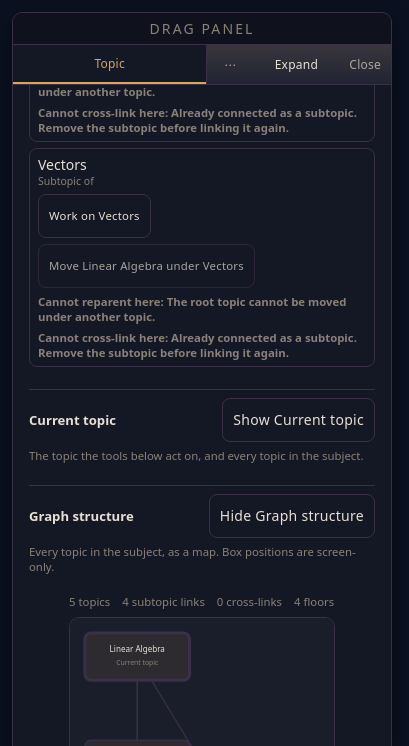
Test: archetype prominence › leads with existing connections for the Archivist, and keeps every tool reachable
(page scrolled)
Step 1. Click the button "Show Current topic" → (299, 420), box top-left (222, 398), bottom-right (375, 442)
(page scrolled)
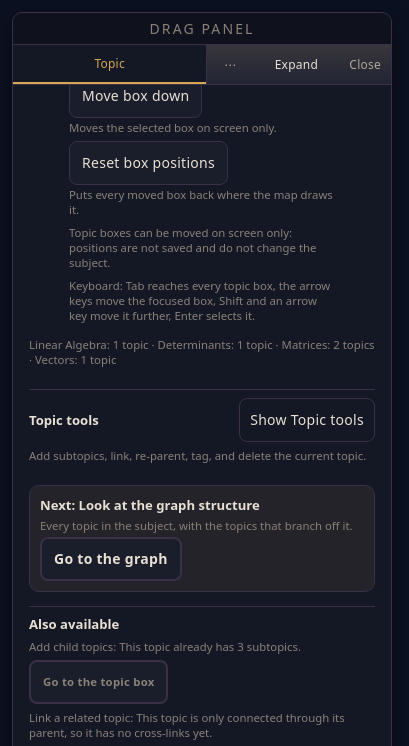
Expected: the button "Show Topic tools" is shown
Step 2. Click the button "Show Topic tools" → (307, 420), box top-left (239, 398), bottom-right (375, 442)
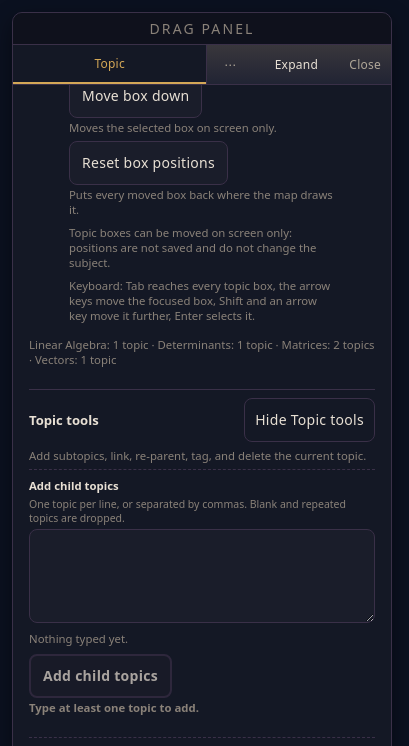
Expected: the button "Hide Topic tools" is shown, top-left (244, 398), bottom-right (375, 442)
